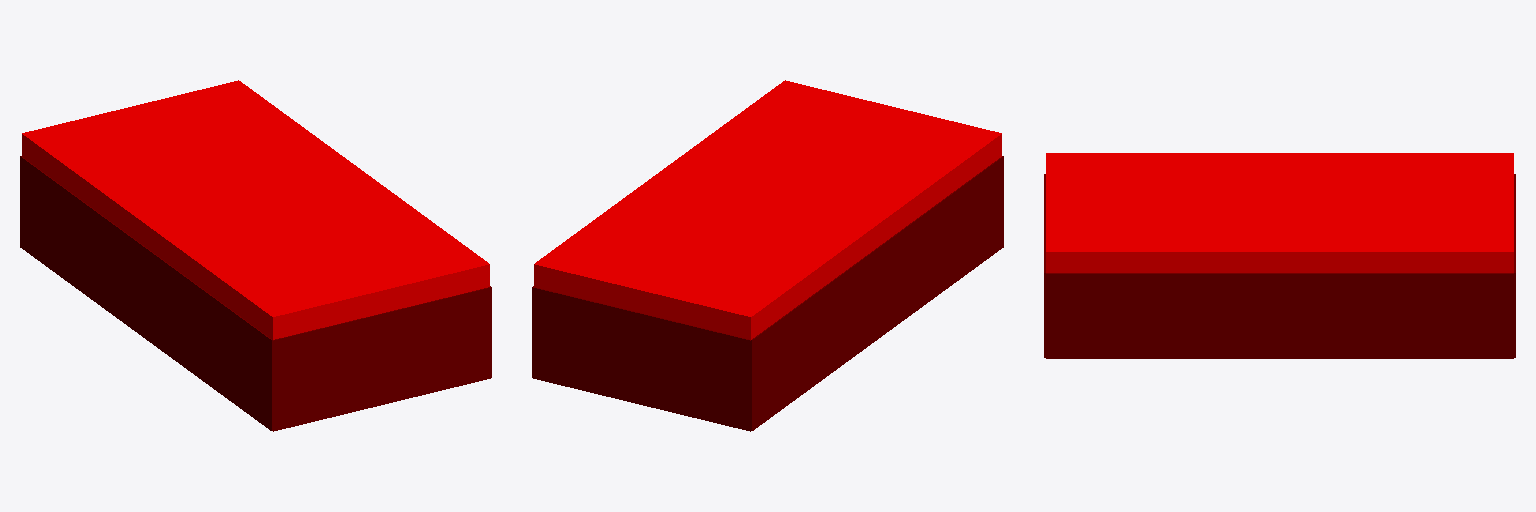
The robot description file, URDF, robot "cube_with_handles":
<?xml version="1.0"?>
<robot name="cube_with_handles">

  <link name="main_surf">
    <inertial>
      <origin rpy="0 0 0" xyz="0 0 0.0"/>
      <mass value="0.2"/>
      <inertia ixx="0.0001" ixy="0" ixz="0" iyy="0.0001" iyz="0" izz="0.0001"/>
    </inertial>
    <visual>
      <origin xyz="0 0 0"/>
      <geometry>
        <box size="0.1 0.2 0.03" />
      </geometry>
      <material name="red2">
        <color rgba="1 0. 0 1.0"/>
      </material>
    </visual>
    <collision>
      <origin xyz="0 0 0"/>
      <geometry>
        <box size="0.1 0.2 0.03" />
      </geometry>
    </collision>
  </link>

<joint name="edge1" type="fixed">    
    <origin rpy="0 0 3.14159265359" xyz="0 0.1 -0.015"/>    
    <parent link="main_surf"/>
    <child link="edge_1"/>
  </joint>
  <link name="edge_1">
    <inertial>
      <origin rpy="0 0 0" xyz="0 0 0"/>
      <mass value="0.00"/>
      <inertia ixx="0.0001" ixy="0" ixz="0" iyy="0.0001" iyz="0" izz="0.0001"/>
    </inertial>
    <visual>
      <origin xyz="0 0 0"/>
      <geometry>
        <box size="0.1 0.001 0.04" />
      </geometry>
      <material name="red">
        <color rgba="0.5 0. 0 1.0"/>
      </material>
    </visual>
    <collision>
      <origin xyz="0 0 0"/>
      <geometry>
        <box size="0.1 0.001 0.04" />
      </geometry>
    </collision>
  </link>

<joint name="edge2" type="fixed">    
    <origin rpy="0 0 3.14159265359" xyz="0 -0.1 -0.015"/>    
    <parent link="main_surf"/>
    <child link="edge_2"/>
  </joint>
  <link name="edge_2">
    <inertial>
      <origin rpy="0 0 0" xyz="0 0 0"/>
      <mass value="0.00"/>
      <inertia ixx="0.0001" ixy="0" ixz="0" iyy="0.0001" iyz="0" izz="0.0001"/>
    </inertial>
    <visual>
      <origin xyz="0 0 0"/>
      <geometry>
        <box size="0.1 0.001 0.04" />
      </geometry>
      <material name="red">
        <color rgba="0.5 0. 0 1.0"/>
      </material>
    </visual>
    <collision>
      <origin xyz="0 0 0"/>
      <geometry>
        <box size="0.1 0.001 0.04" />
      </geometry>
    </collision>
  </link>

<joint name="edge3" type="fixed">    
    <origin rpy="0 0 3.14159265359" xyz="-0.05 -0. -0.015"/>    
    <parent link="main_surf"/>
    <child link="edge_3"/>
  </joint>
  <link name="edge_3">
    <inertial>
      <origin rpy="0 0 0" xyz="0 0 0"/>
      <mass value="0.05"/>
      <inertia ixx="0.0001" ixy="0" ixz="0" iyy="0.0001" iyz="0" izz="0.0001"/>
    </inertial>
    <visual>
      <origin xyz="0 0 0"/>
      <geometry>
        <box size="0.001 0.2 0.04" />
      </geometry>
      <material name="red">
        <color rgba="0.5 0. 0 1.0"/>
      </material>
    </visual>
    <collision>
      <origin xyz="0 0 0"/>
      <geometry>
        <box size="0.001 0.2 0.04" />
      </geometry>
    </collision>
  </link>


<joint name="edge4" type="fixed">    
    <origin rpy="0 0 -3.14159265359" xyz="0.05 -0. -0.015"/>    
    <parent link="main_surf"/>
    <child link="edge_4"/>
  </joint>
  <link name="edge_4">
    <inertial>
      <origin rpy="0 0 0" xyz="0 0 0"/>
      <mass value="0.05"/>
      <inertia ixx="0.0001" ixy="0" ixz="0" iyy="0.0001" iyz="0" izz="0.0001"/>
    </inertial>
    <visual>
      <origin xyz="0 0 0"/>
      <geometry>
        <box size="0.001 0.2 0.04" />
      </geometry>
      <material name="red">
        <color rgba="0.5 0. 0 1.0"/>
      </material>
    </visual>
    <collision>
      <origin xyz="0 0 0"/>
      <geometry>
        <box size="0.001 0.2 0.04" />
      </geometry>
    </collision>
  </link>


</robot>

--- Facts derived from the render (not from the file) ---
Views: 3 orthographic renders of the robot side by side, from view 1: azimuth 30°, elevation 25°; view 2: azimuth 150°, elevation 25°; view 3: azimuth 270°, elevation 25°.
Robot: cube_with_handles — 5 links, 4 joints (4 fixed); root link main_surf; default pose: every joint at zero.
Visible links, largest first — view 1: main_surf, edge_3, edge_2; view 2: main_surf, edge_3, edge_1; view 3: main_surf, edge_4.
Link boxes in pixels (<box>): main_surf: <box>22,80,489,339</box>; edge_3: <box>20,156,272,430</box>; edge_2: <box>273,287,490,431</box>; main_surf: <box>534,80,1001,339</box>; edge_3: <box>751,156,1003,430</box>; edge_1: <box>533,287,750,431</box>; main_surf: <box>1046,153,1513,272</box>; edge_4: <box>1046,273,1513,358</box>.
Size in the robot's own frame: 0.101 by 0.201 by 0.05 metres.
Geometry: primitives only (box / cylinder / sphere), no mesh files.